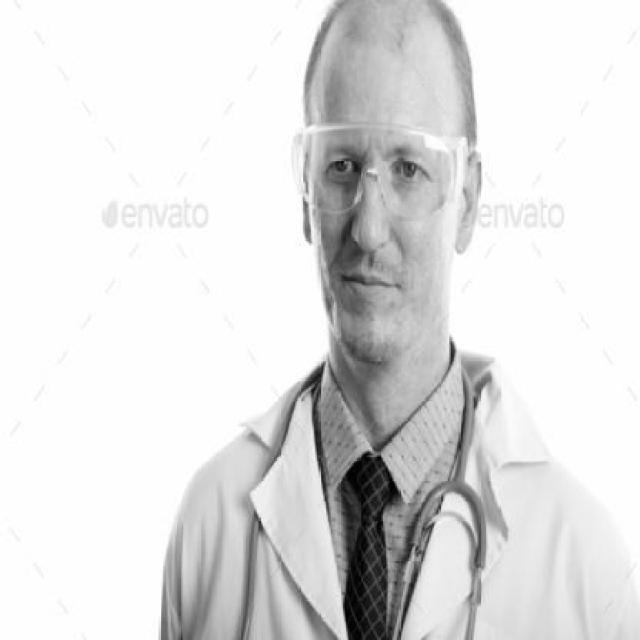face_nomask: (308, 142, 450, 323)
glasses: (290, 126, 476, 220)
person: (140, 0, 640, 640)
